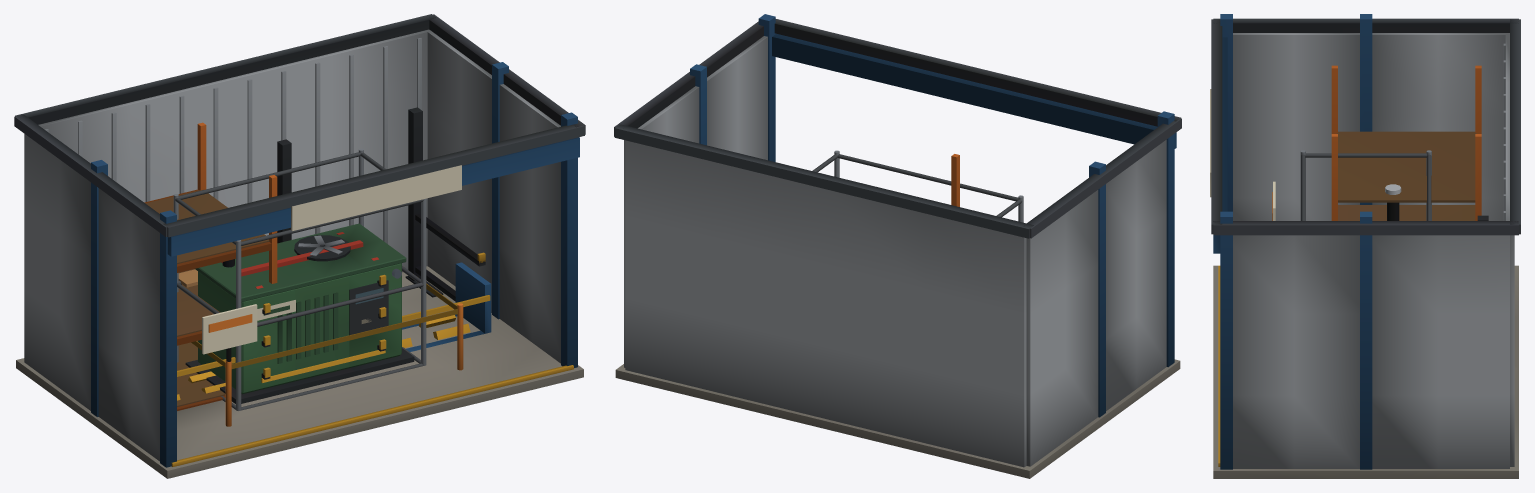
Rendered from level2.glb.
The picture shows the model from 3 angles, left to right: view 1: azimuth 30°, elevation 25°; view 2: azimuth 150°, elevation 25°; view 3: azimuth 270°, elevation 25°; orthographic projection.
Visible parts, largest first — view 1: l2_warehouse_mesh, l2_gen_mk2_mesh, l2_scaffold_mesh, l2_coil_bay_mesh, l2_pipe_rack_mesh, gen2_fan; view 2: l2_warehouse_mesh, l2_scaffold_mesh; view 3: l2_warehouse_mesh, l2_scaffold_mesh, l2_gen_mk2_mesh.
Boxes of the visible parts, left/top/right/bottom form: l2_warehouse_mesh: left=14, top=14, right=585, bottom=478; l2_gen_mk2_mesh: left=185, top=223, right=414, bottom=403; l2_scaffold_mesh: left=173, top=148, right=463, bottom=426; l2_coil_bay_mesh: left=177, top=262, right=491, bottom=400; l2_pipe_rack_mesh: left=221, top=232, right=386, bottom=379; gen2_fan: left=294, top=235, right=350, bottom=261; l2_warehouse_mesh: left=614, top=14, right=1181, bottom=478; l2_scaffold_mesh: left=812, top=150, right=1023, bottom=222; l2_warehouse_mesh: left=1210, top=14, right=1520, bottom=478; l2_scaffold_mesh: left=1272, top=150, right=1431, bottom=220; l2_gen_mk2_mesh: left=1385, top=184, right=1401, bottom=220.
Bounding box in the file's own units: 5.44 × 3.22 × 3.45.
